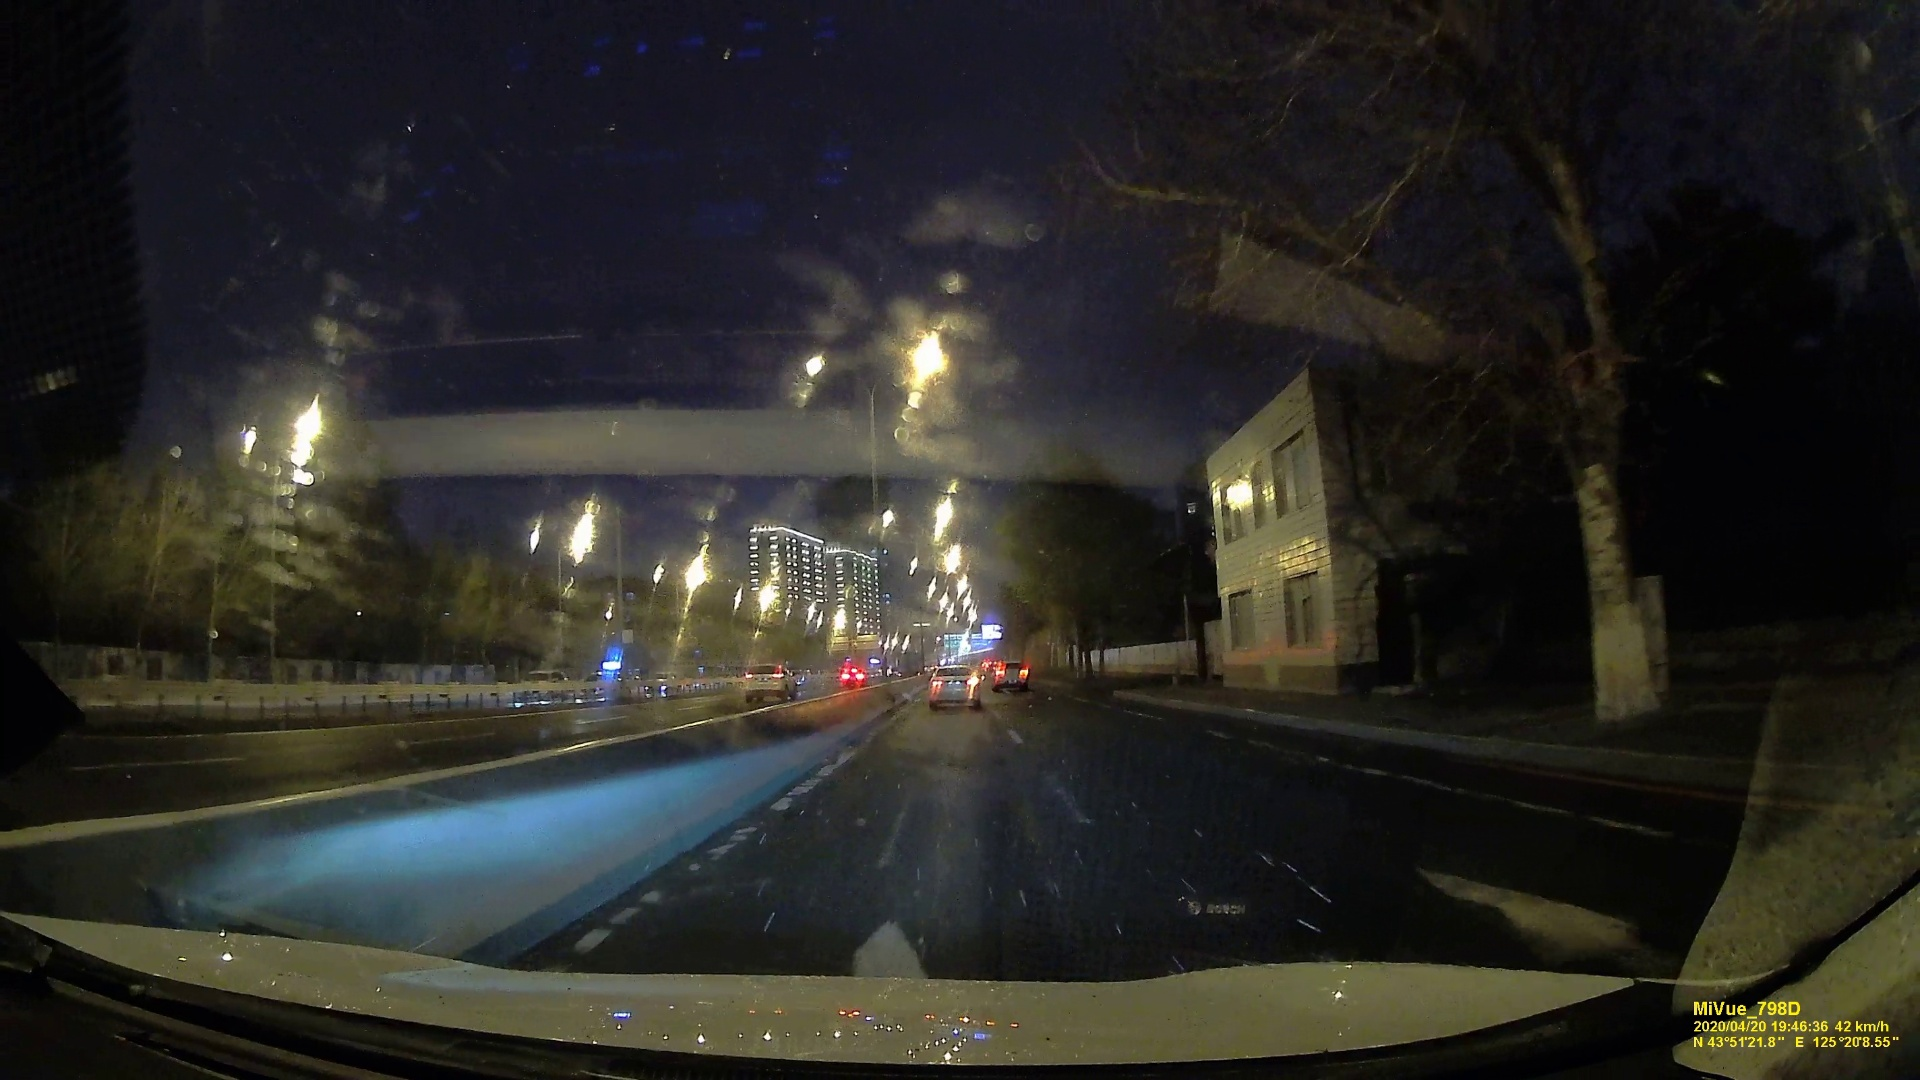vehicle: (926, 667, 978, 708), (744, 665, 796, 699), (993, 659, 1033, 692), (840, 665, 866, 687)
